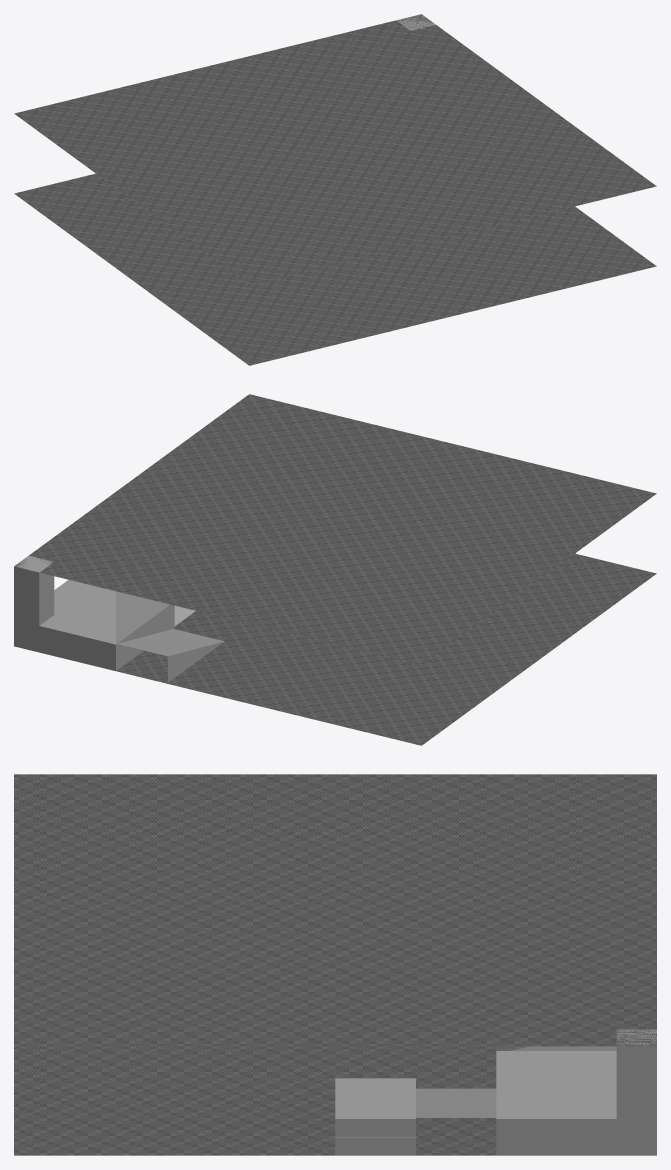
File: TestLevel1.obj
3 views of the same model, one above another, from view 1: azimuth 30°, elevation 25°; view 2: azimuth 150°, elevation 25°; view 3: azimuth 270°, elevation 25° (orthographic). The views are drawn at different scales.
Visible parts, largest first — view 1: Plane.003, Plane; view 2: Plane.003, Plane, Cube_Cube.002, Cube.005_Cube.007, Plane.002, Plane.005, Plane.004; view 3: Plane.003, Plane, Cube_Cube.002, Cube.005_Cube.007, Plane.001, Cube.003_Cube.005, Cube.001_Cube.003, Cube.002_Cube.004, Cube.004_Cube.006.
Boxes of the visible parts, x1,y1,x2,y2 form: Plane.003: [14, 14, 656, 285]; Plane: [14, 173, 656, 365]; Plane.003: [15, 394, 656, 665]; Plane: [116, 553, 656, 745]; Cube_Cube.002: [14, 580, 174, 671]; Cube.005_Cube.007: [14, 555, 54, 625]; Plane.002: [117, 629, 224, 682]; Plane.005: [116, 592, 168, 643]; Plane.004: [116, 592, 168, 643]; Plane.003: [14, 774, 656, 1046]; Plane: [14, 1046, 528, 1155]; Cube_Cube.002: [496, 1051, 656, 1155]; Cube.005_Cube.007: [616, 1029, 656, 1118]; Plane.001: [416, 1088, 496, 1117]; Cube.003_Cube.005: [335, 1102, 415, 1127]; Cube.001_Cube.003: [335, 1078, 415, 1155]; Cube.002_Cube.004: [335, 1086, 415, 1146]; Cube.004_Cube.006: [335, 1094, 415, 1136].
Size of the model in its own units: 16 by 3 by 16.
